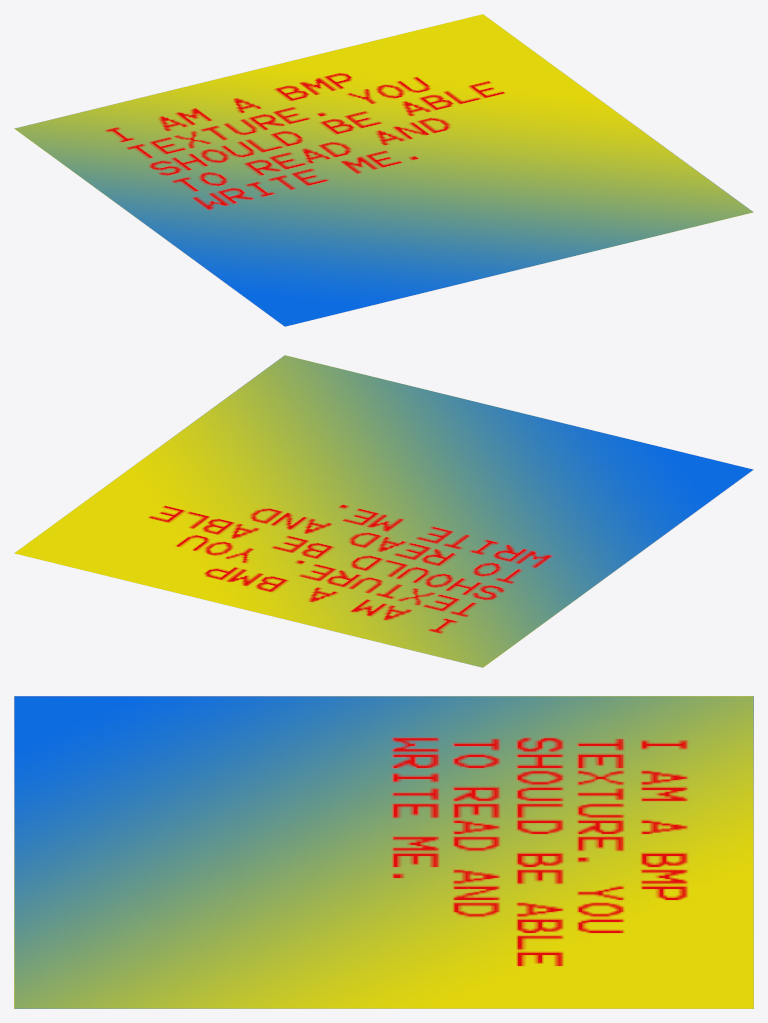
File: simple_010_TextureFormats-BMP_00.dae
3 views of the same model, one above another, from view 1: azimuth 30°, elevation 25°; view 2: azimuth 150°, elevation 25°; view 3: azimuth 270°, elevation 25° (orthographic). The views are drawn at different scales.
Visible parts, largest first — view 1: pPlane1; view 2: pPlane1; view 3: pPlane1.
Part boxes in pixels (bbox=[...]): pPlane1: bbox=[14, 14, 753, 326]; pPlane1: bbox=[14, 355, 753, 667]; pPlane1: bbox=[14, 696, 753, 1008].
Size of the model in its own units: 50 by 50 by 0.
Materials: 1 (1 with a texture image).
